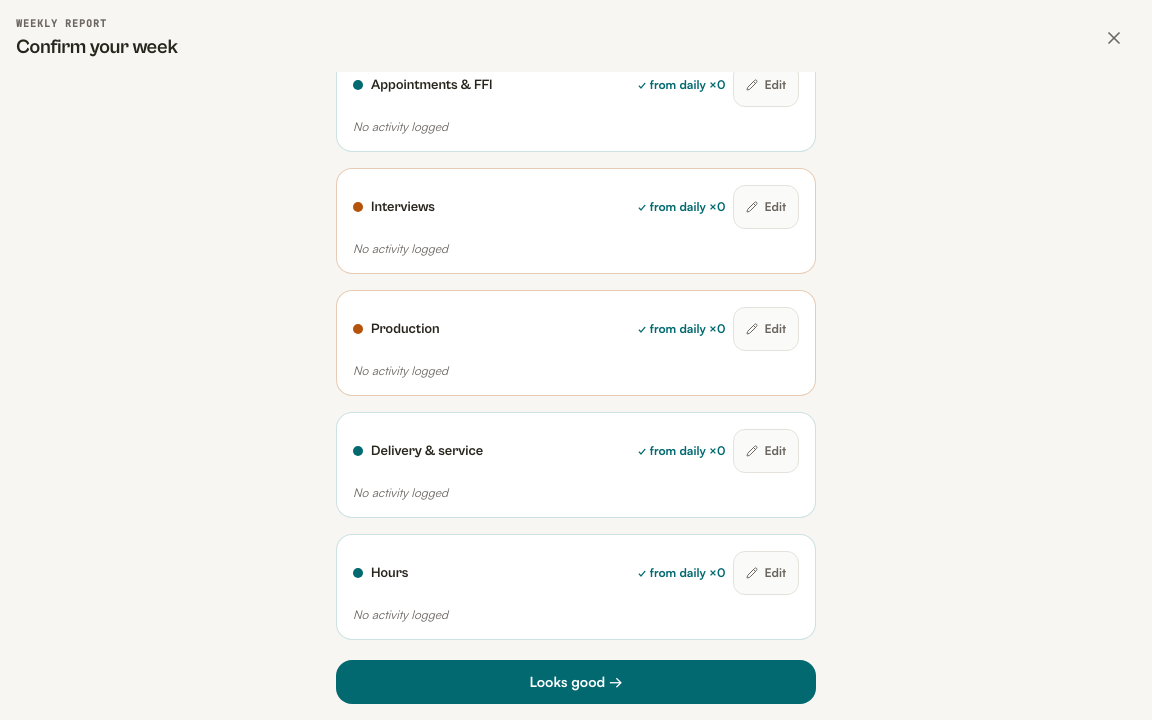
Test: Wizard v3 — fast-path back-navigation (Confirm ↔ step 10) › Back from step 10 returns to the Confirm screen when entered via the fast path
(page scrolled)
Advance Confirm → step 10.
Click the button with test id "week-confirm-next". click: (576, 682)
box: left=336, top=660, right=816, bottom=704
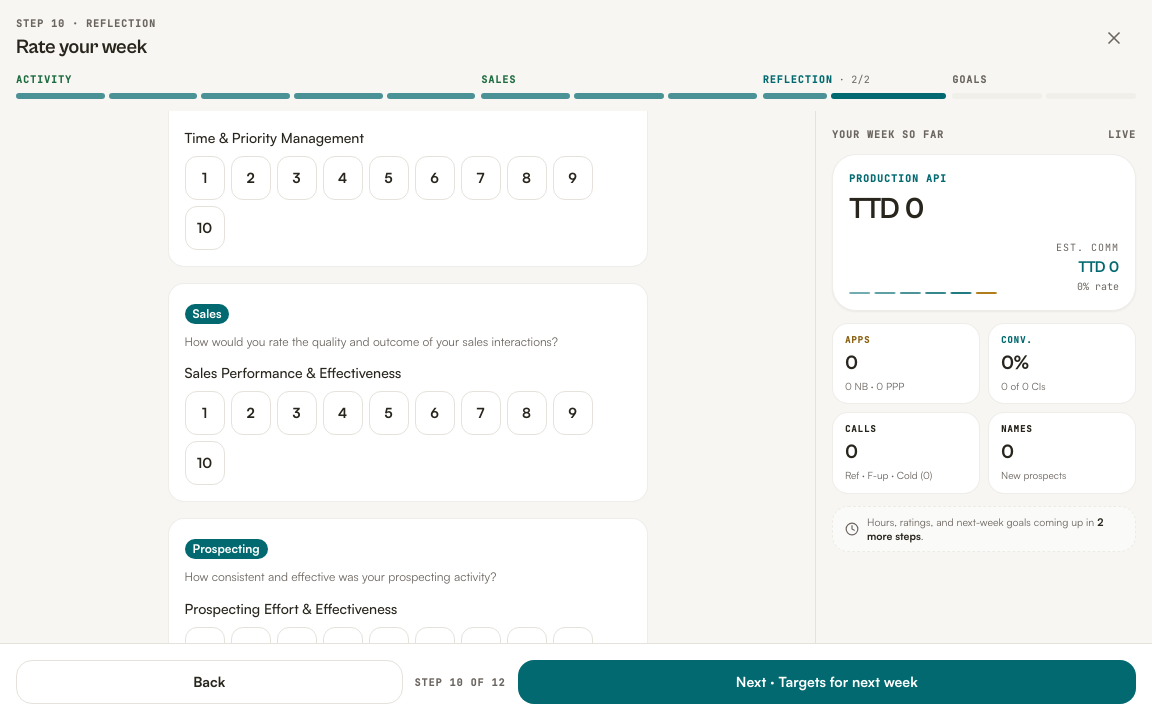
Now the text with test id "wizard-v2-step-counter" reads "Step 10 of 12", box left=414, top=674, right=506, bottom=690
Back from step 10 → Confirm, NOT step 9.
Click the button with test id "wizard-v2-back". click: (209, 682)
box: left=16, top=660, right=402, bottom=704
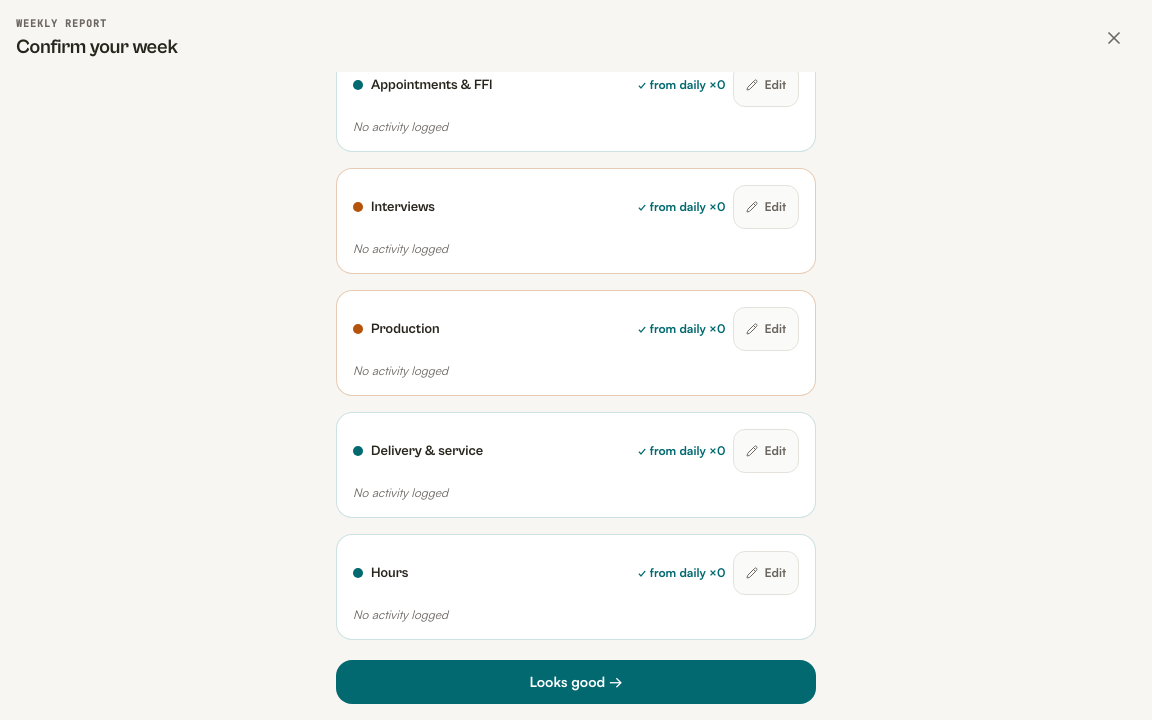
Now the element with test id "week-confirm-view" is shown, box left=320, top=72, right=832, bottom=719
Now the heading with test id "wizard-v2-step-title" reads "Confirm your week", box left=16, top=36, right=178, bottom=59
